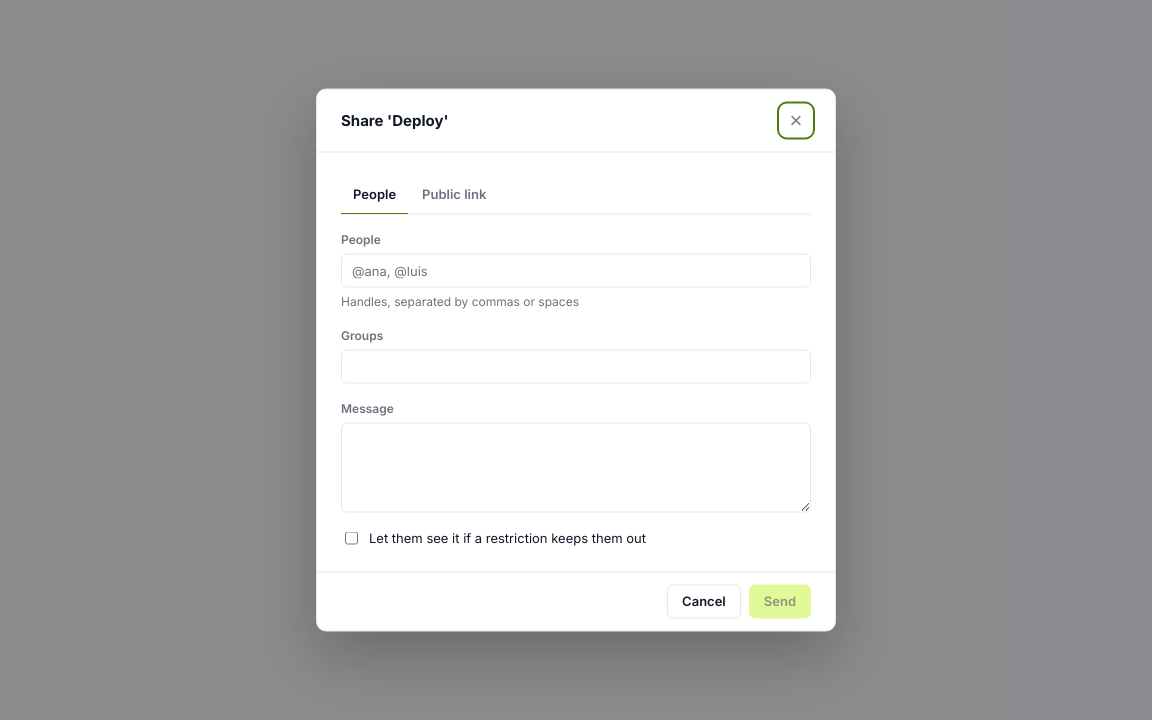
Test case: PublicLink › tells people who are not space admins
Click the tab "Public link" at point(454, 195), box [410,176,498,214]
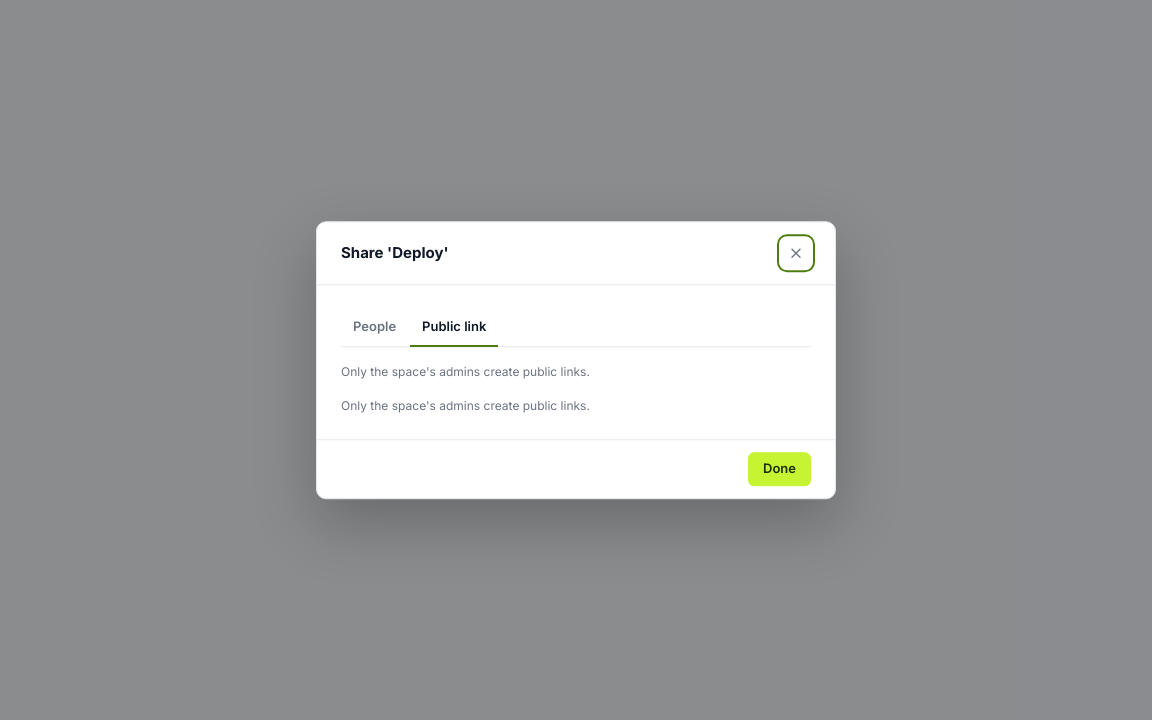
Check: the text "Only the space's admins create public links." is shown 2 times, box [341,364,590,379]; [341,398,590,413]
